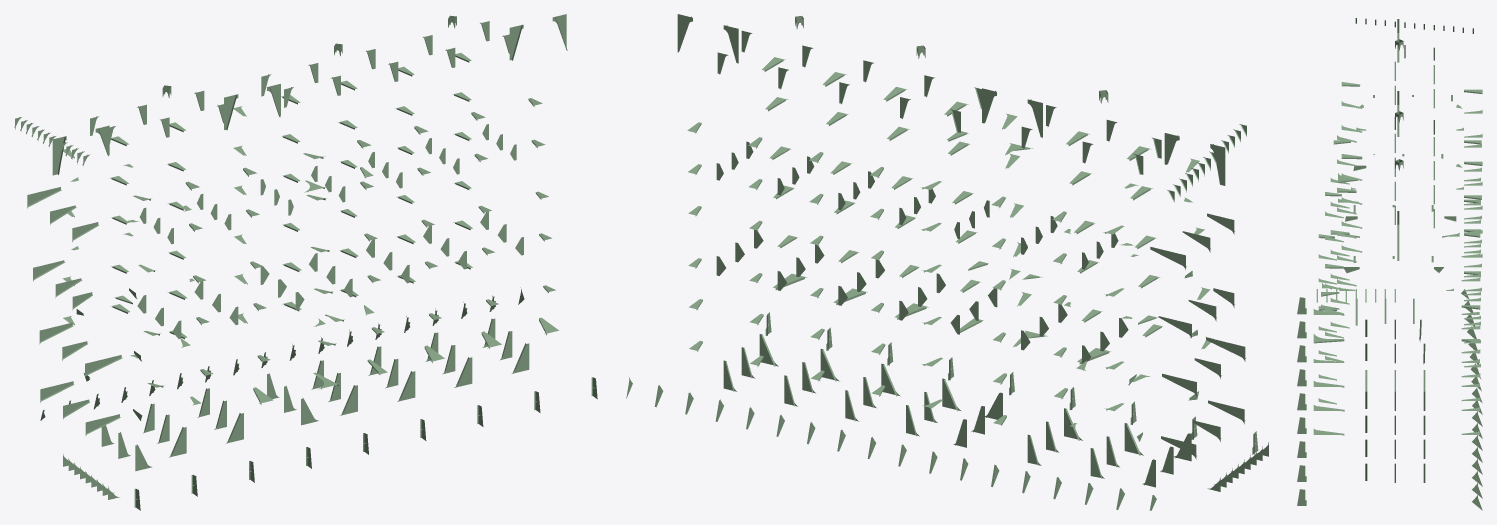
Rendered from NO_4_WING_WATER_BLT_TK_PS.glb.
3 views of the same model, side by side, from view 1: azimuth 30°, elevation 25°; view 2: azimuth 150°, elevation 25°; view 3: azimuth 270°, elevation 25° (orthographic). The views are drawn at different scales.
Bounding box in the file's own units: 47.16 × 31.5 × 17.16.
